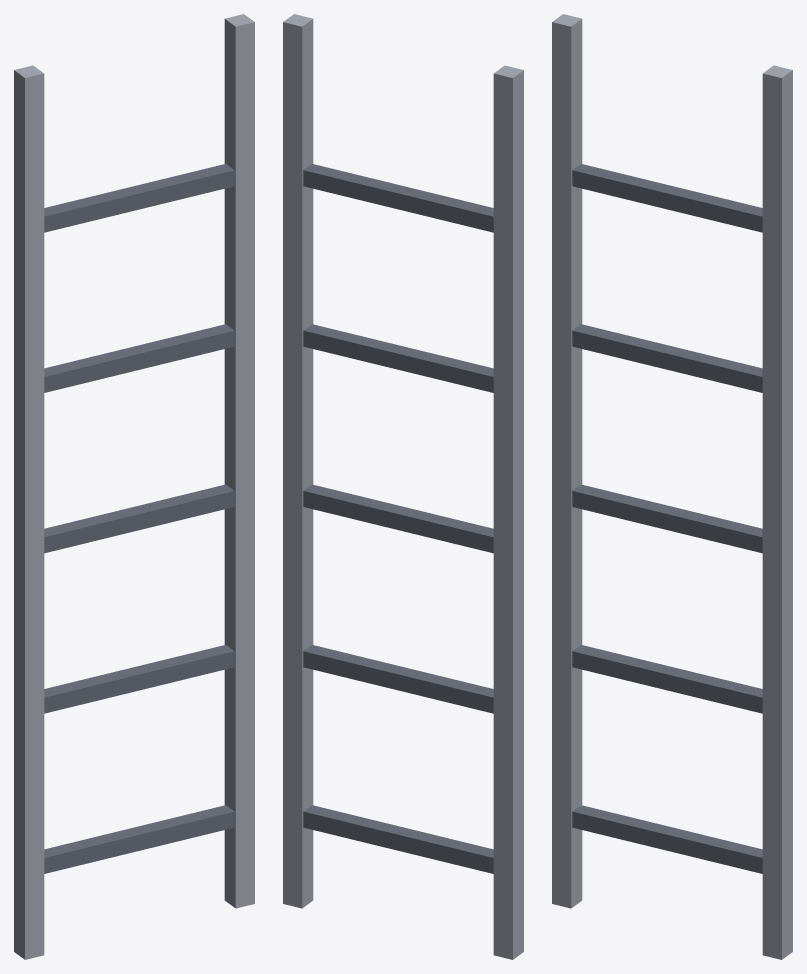
The model's file is scaffold.glb.
3 renders of one model, left to right at view 1: azimuth 30°, elevation 25°; view 2: azimuth 150°, elevation 25°; view 3: azimuth 330°, elevation 25°, orthographic.
Parts seen in each view (by area): view 1: scaffold; view 2: scaffold; view 3: scaffold.
Part boxes in pixels (x1,y1,x2,y2): scaffold: [14, 14, 254, 959]; scaffold: [283, 14, 523, 959]; scaffold: [552, 14, 792, 959].
Bounding box in the file's own units: 0.6 × 2.2 × 0.05.
Materials: 1 (1 with a texture image).
